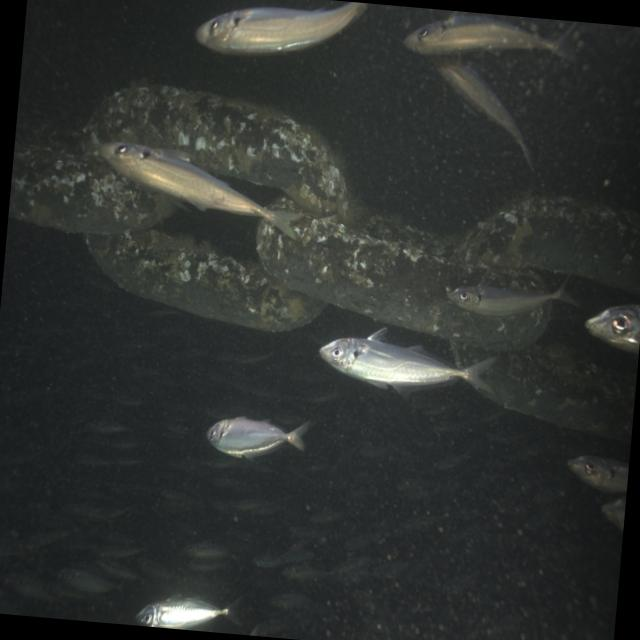ChainLink: (256, 214, 549, 350), (84, 85, 352, 218), (85, 230, 325, 331), (461, 196, 640, 291), (9, 147, 174, 234), (483, 346, 635, 439), (451, 341, 488, 366)
